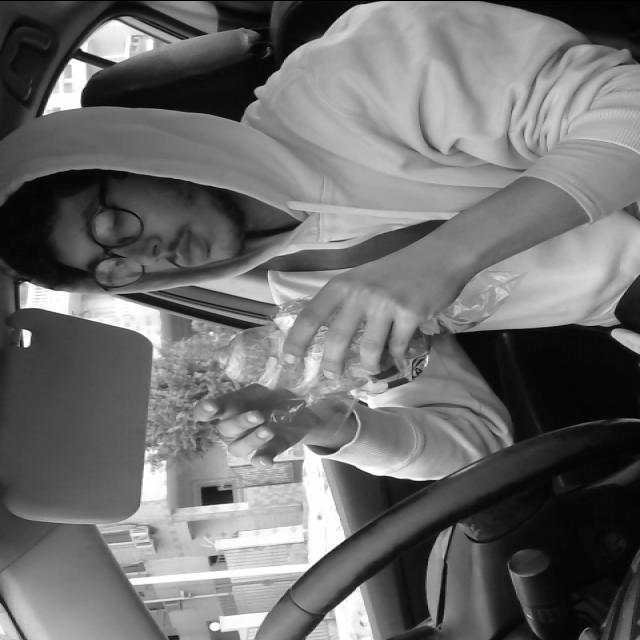eating: (210, 302, 436, 399)
